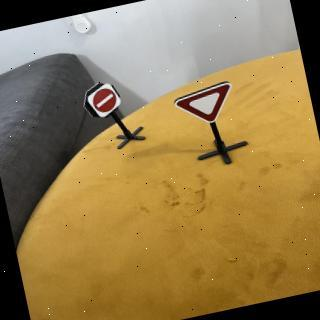sign_noentry: (85, 81, 126, 122)
sign_yield: (172, 80, 241, 132)
